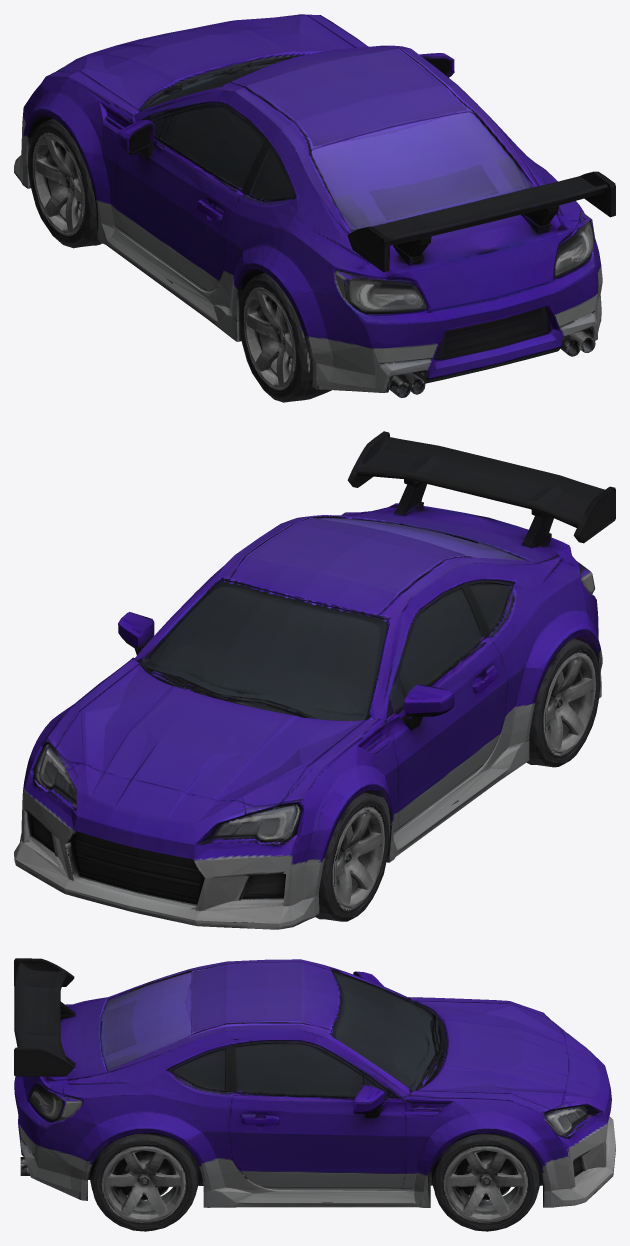
The model's file is DriftCoupe.fbx.
3 renders of one model, top to bottom at view 1: azimuth 30°, elevation 25°; view 2: azimuth 150°, elevation 25°; view 3: azimuth 270°, elevation 25°, orthographic. The views are drawn at different scales.
Parts seen in each view (by area): view 1: Body, WheelRL, WheelFL; view 2: Body, WheelRL, WheelFL; view 3: Body, WheelRR, WheelFR.
Part boxes in pixels (x1,y1,x2,y2): Body: (14,14,615,397); WheelRL: (239,273,331,402); WheelFL: (28,118,101,248); Body: (14,431,615,929); WheelRL: (526,638,600,767); WheelFL: (315,793,389,921); Body: (14,958,615,1207); WheelRR: (90,1133,199,1231); WheelFR: (431,1133,541,1231).
Bounding box in the file's own units: 556 × 375 × 1093.
1 material, 1 textured.
